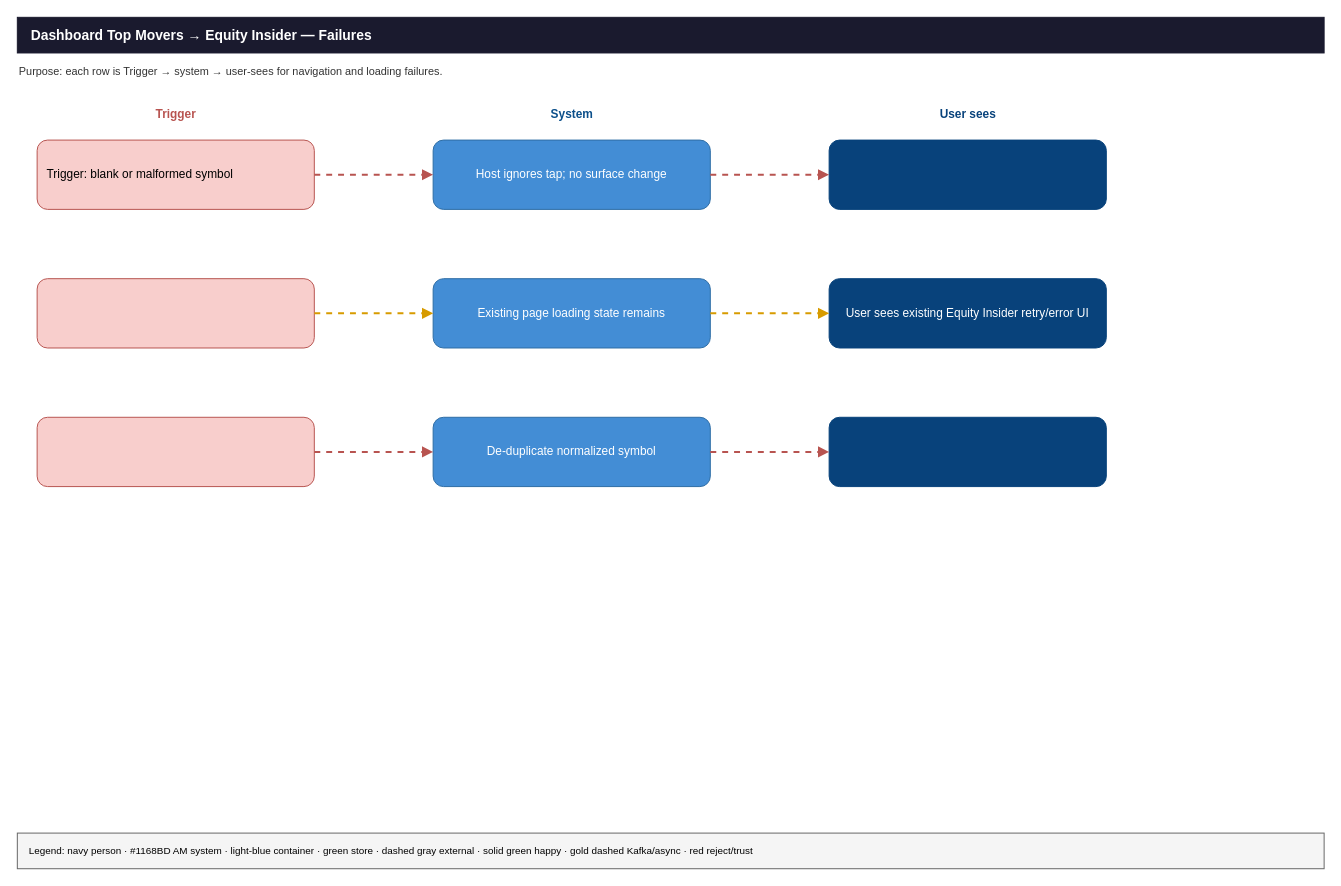
This 1341x886 diagram has some shape labels left out. The centre of each missing label's shape, as x and y in pixels:
"Dashboard remains usable" goes at (967,174).
"One Equity Insider load only" goes at (967,451).
"Trigger: duplicate tap during handoff" goes at (175,451).
"Trigger: Equity Insider request delayed" goes at (175,313).
